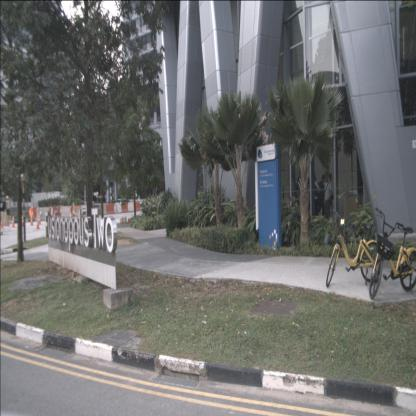human-pedestrian-adult: (310, 173, 323, 220), (323, 174, 332, 231), (316, 175, 326, 226), (293, 176, 301, 216), (327, 173, 333, 219)
movable_object-barrier: (106, 203, 115, 214), (113, 202, 122, 213), (98, 204, 107, 214), (127, 201, 135, 212), (121, 201, 128, 213), (134, 201, 140, 211)
movable_object-trafficcone: (0, 218, 4, 231), (11, 215, 15, 228), (36, 217, 40, 230), (38, 213, 41, 226), (21, 214, 24, 227), (30, 214, 33, 226)
vehicle-bicycle: (326, 207, 383, 288), (368, 207, 416, 301)
